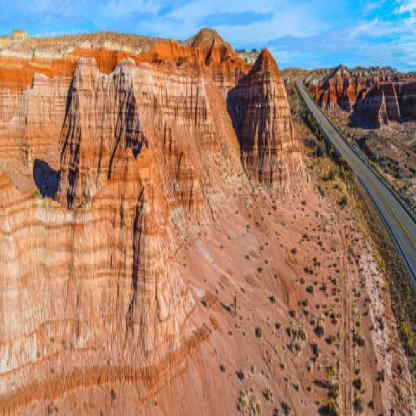Sedimentary_Sandstone: (58, 52, 144, 203), (236, 47, 306, 198), (167, 56, 224, 215)
